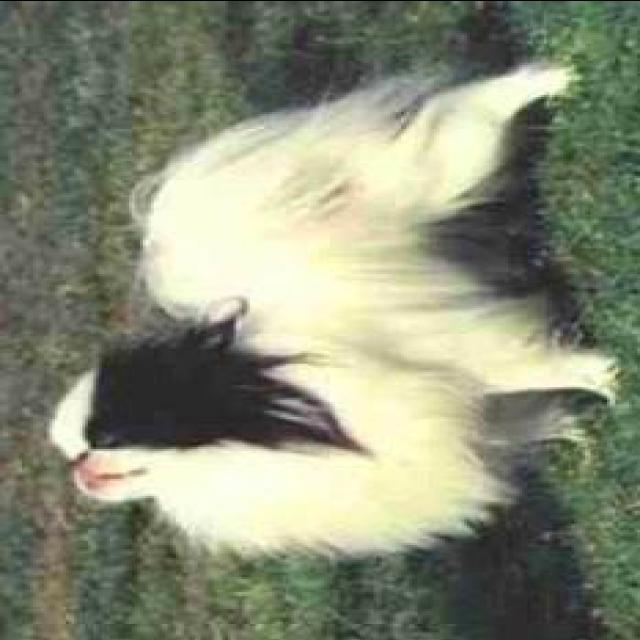husky: (41, 51, 618, 568)
